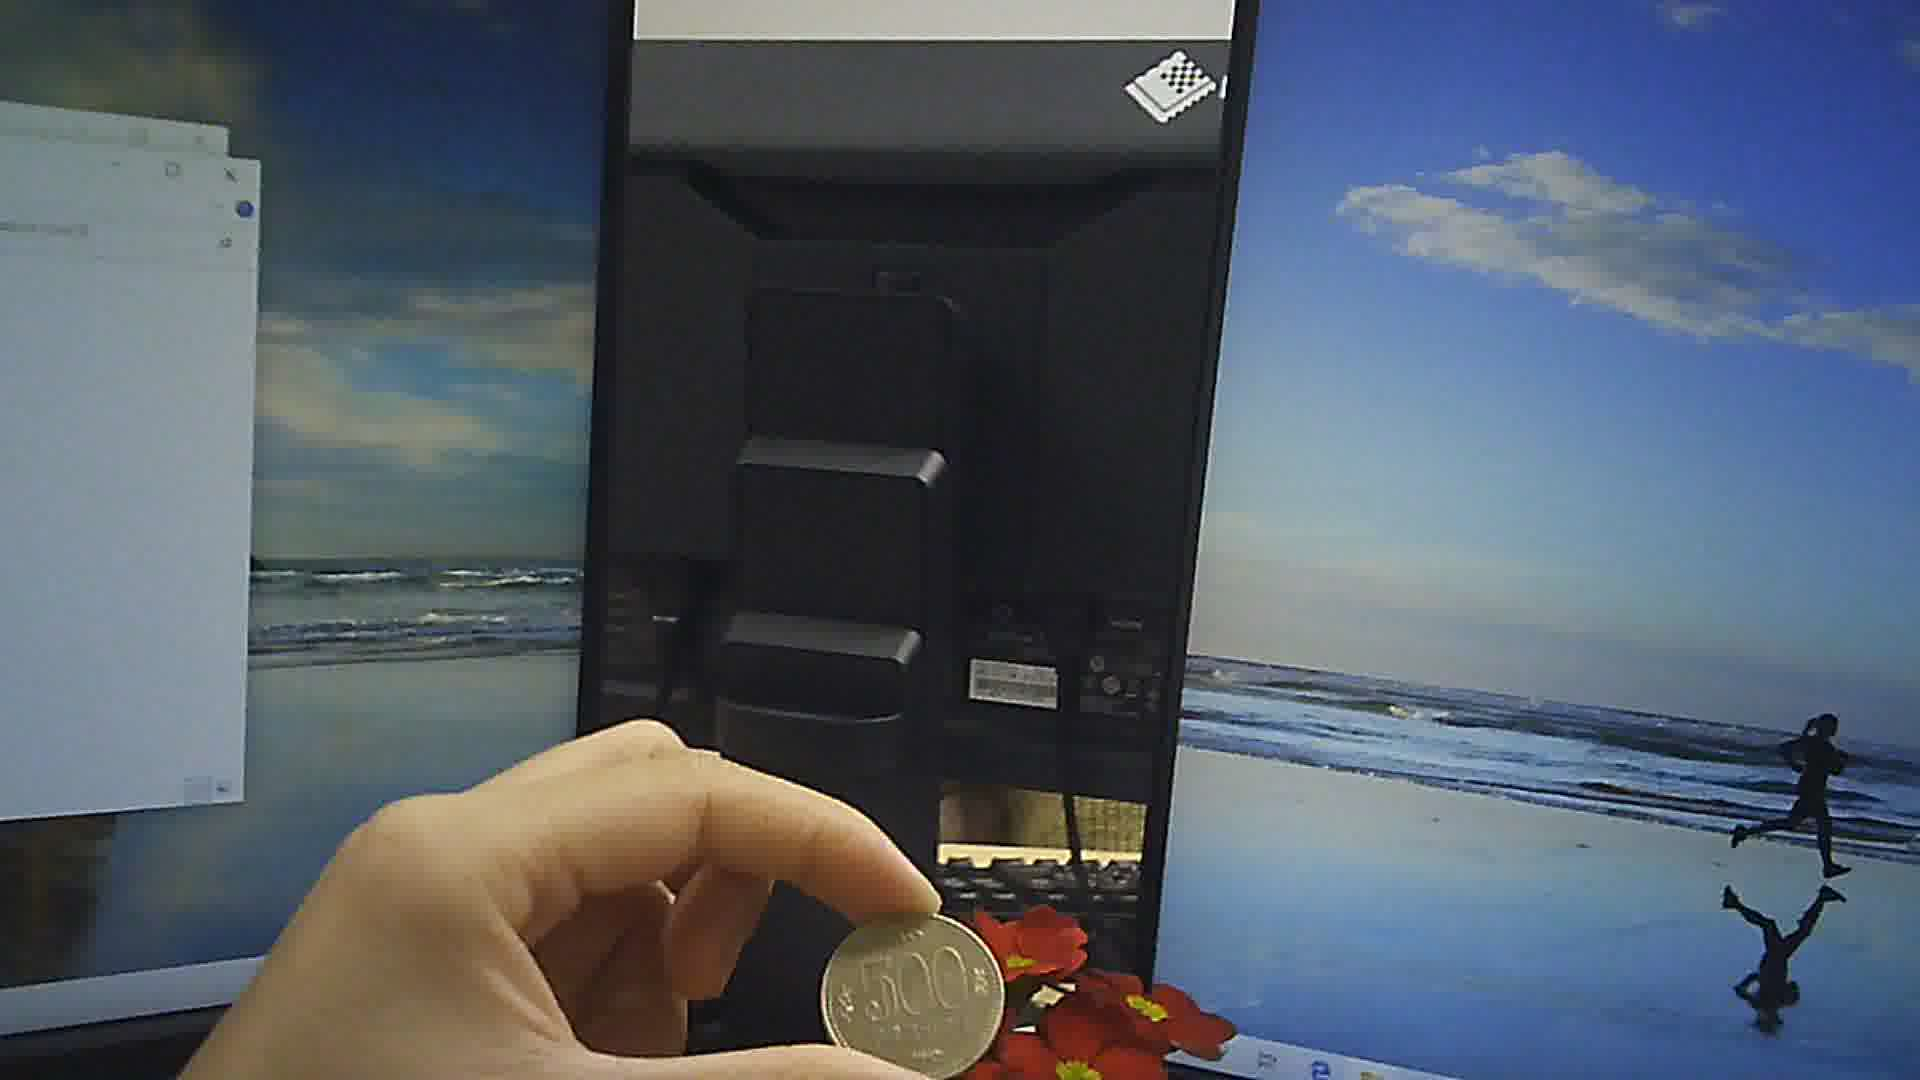500 Yen: (819, 902, 1009, 1079)
